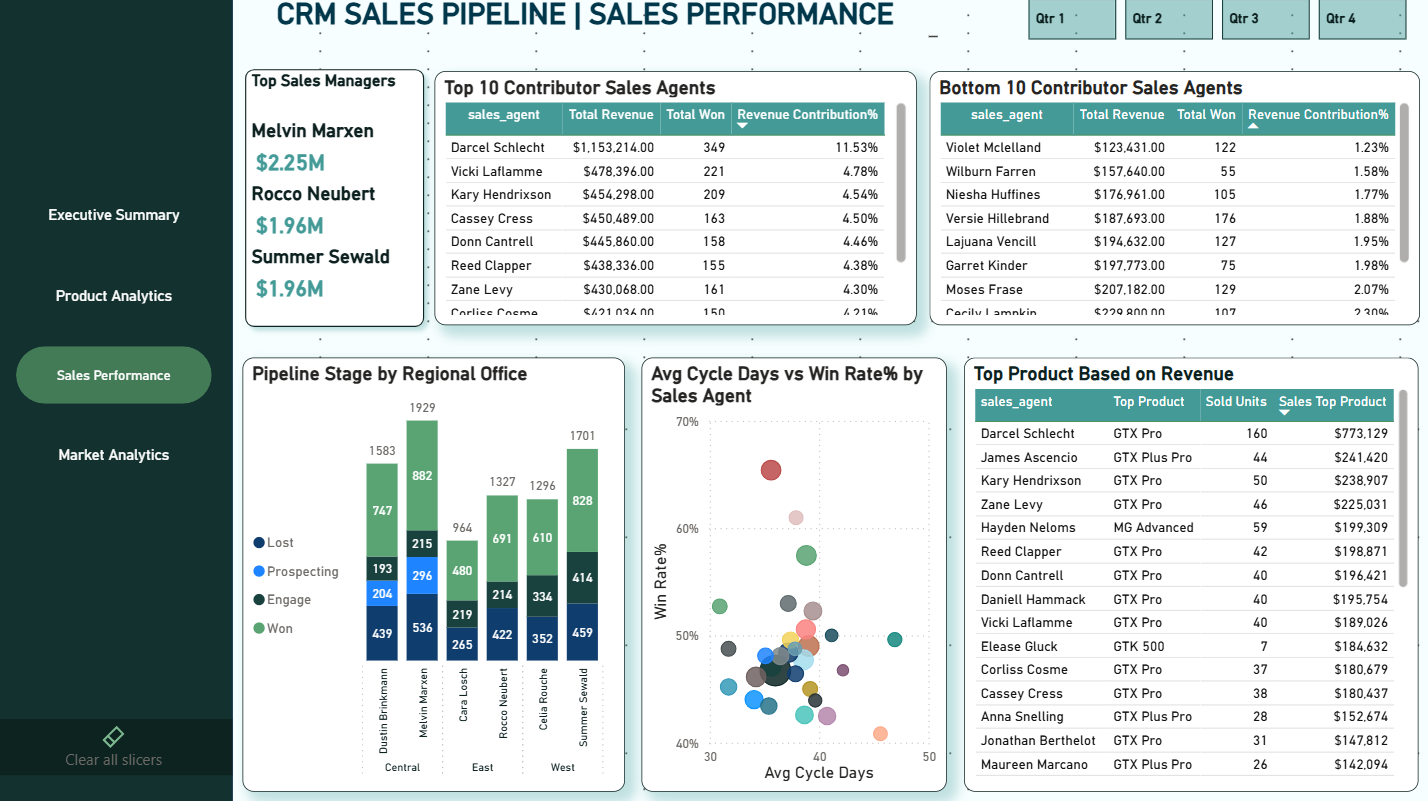

The dashboard page shown, as its layout file describes it:
{"tool":"powerbi","page":{"name":"Sales Performance","canvas":[1280,720],"ordinal":2},"visuals":[{"type":"shape","box":[0,0,211.3,719.7],"z":0,"group":"g1"},{"type":"textbox","title":"CRM SALES PIPELINE | SALES PERFORMANCE","box":[245.7,0,597.5,42],"z":1000},{"type":"pageNavigator","box":[18.3,169,174.6,267.6],"z":1000,"group":"g1"},{"type":"advancedSlicerVisual","fields":{"Values":["Calendar.Quarter"]},"box":[893.8,2.5,386.4,42],"z":2000},{"type":"pageNavigator","box":[21.4,168.6,174.3,268.6],"z":3000},{"type":"actionButton","box":[0,643,211,50],"z":4000},{"type":"shape","box":[212.9,55.7,177.1,247.1],"z":5000},{"type":"cardVisual","title":"Top Sales Managers","fields":{"Data":["sales_pipeline.Total Revenue"],"Rows":["sales_teams.manager"]},"box":[228.6,67.1,144.3,225.7],"z":6000},{"type":"tableEx","title":"Top 10 Contributor Sales Agents","fields":{"Values":["sales_pipeline.sales_agent","sales_pipeline.Total Revenue","sales_pipeline.Total Won","sales_pipeline.Revenue Contribution%"]},"box":[390,67.1,428.6,225.7],"z":7000},{"type":"tableEx","title":"Bottom 10 Contributor Sales Agents","fields":{"Values":["sales_pipeline.sales_agent","sales_pipeline.Total Revenue","sales_pipeline.Total Won","sales_pipeline.Revenue Contribution%"]},"box":[830,67.1,435.7,225.7],"z":8000},{"type":"columnChart","title":"Pipeline Stage by Regional Office","fields":{"Category":["sales_teams.regional_office","sales_teams.manager"],"Y":["sales_pipeline.Lost","sales_pipeline.Prospecting","sales_pipeline.Engage","sales_pipeline.Won"]},"box":[220,321.4,340,385.7],"z":9000},{"type":"scatterChart","title":"Avg Cycle Days vs Win Rate% by Sales Agent","fields":{"X":["sales_pipeline.Avg Cycle Days"],"Y":["sales_pipeline.Win Rate%"],"Category":["sales_pipeline.sales_agent"],"Size":["sales_pipeline.Total Revenue"]},"box":[574.3,321.4,271.4,385.7],"z":10000},{"type":"tableEx","title":"Top Product Based on Revenue","fields":{"Values":["sales_pipeline.sales_agent","sales_pipeline.Top Product Name","sales_pipeline.Units of Top Product","sales_pipeline.Revenue of Top Product"]},"box":[861.4,321.4,404.3,385.7],"z":11000},{"type":"group","id":"g1","title":"Group 1","box":[0,0,211.3,719.7],"z":11001},{"type":"actionButton","box":[0,643,211,50],"z":14501,"group":"g1"}]}

Visuals, with their boxes on the page's 1280x720 design canvas (x1, y1, x2, y2). These are canvas units, not pixel positions in the 1428x801 screenshot, which may show the page scaled, cropped or inside an application window:
shape: box(0, 0, 211, 720)
"CRM SALES PIPELINE | SALES PERFORMANCE" textbox: box(246, 0, 843, 42)
pageNavigator: box(18, 169, 193, 437)
advancedSlicerVisual - Calendar.Quarter: box(894, 2, 1280, 44)
pageNavigator: box(21, 169, 196, 437)
actionButton: box(0, 643, 211, 693)
shape: box(213, 56, 390, 303)
"Top Sales Managers" cardVisual: box(229, 67, 373, 293)
"Top 10 Contributor Sales Agents" tableEx: box(390, 67, 819, 293)
"Bottom 10 Contributor Sales Agents" tableEx: box(830, 67, 1266, 293)
"Pipeline Stage by Regional Office" columnChart: box(220, 321, 560, 707)
"Avg Cycle Days vs Win Rate% by Sales Agent" scatterChart: box(574, 321, 846, 707)
"Top Product Based on Revenue" tableEx: box(861, 321, 1266, 707)
"Group 1" group: box(0, 0, 211, 720)
actionButton: box(0, 643, 211, 693)
